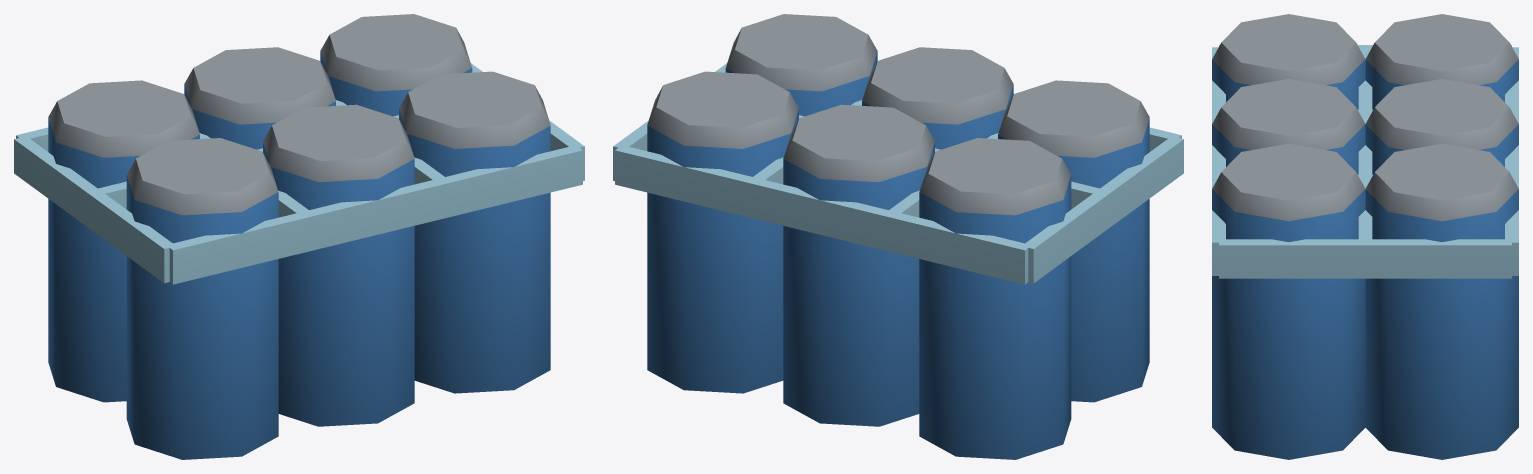
Rendered from Can_Soda_6Pack_01.glb.
3 views of the same model, side by side, from view 1: azimuth 30°, elevation 25°; view 2: azimuth 150°, elevation 25°; view 3: azimuth 270°, elevation 25° (orthographic). The views are drawn at different scales.
Visible parts, largest first — view 1: SM_Can_Soda_6Pack_01; view 2: SM_Can_Soda_6Pack_01; view 3: SM_Can_Soda_6Pack_01.
Part boxes in pixels (x1,y1,x2,y2): SM_Can_Soda_6Pack_01: (14,14,584,459); SM_Can_Soda_6Pack_01: (613,14,1183,459); SM_Can_Soda_6Pack_01: (1212,14,1518,459).
Size of the model in its own units: 0.2052 by 0.122 by 0.1328.
Materials: 1 (1 with a texture image).
